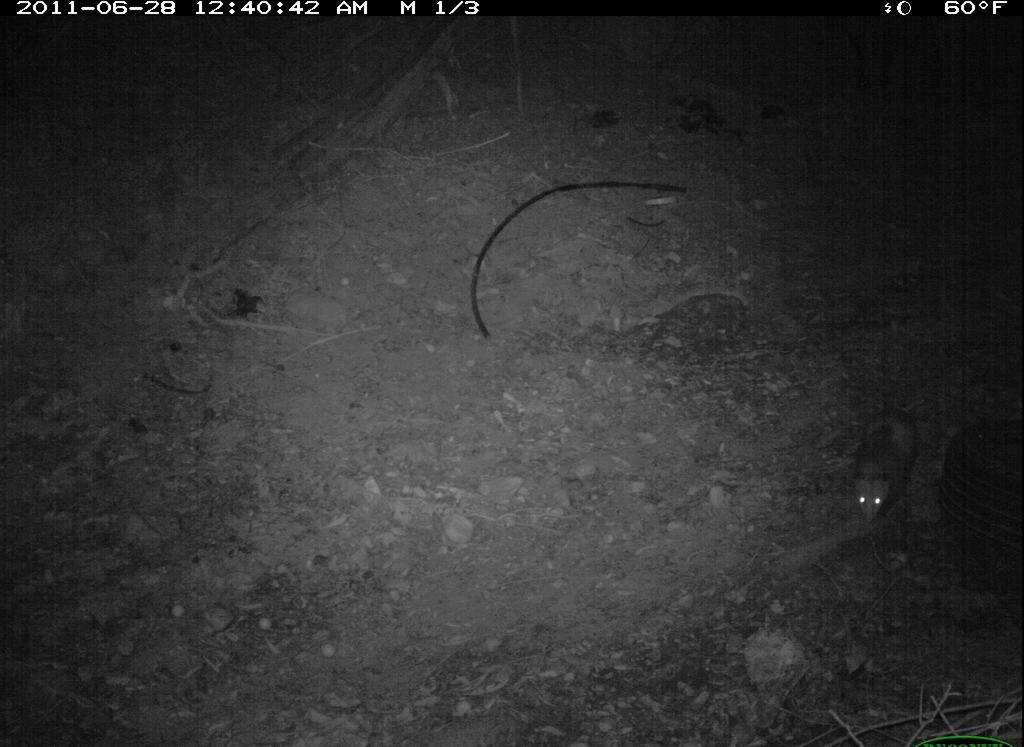opossum: (834, 400, 934, 550)
